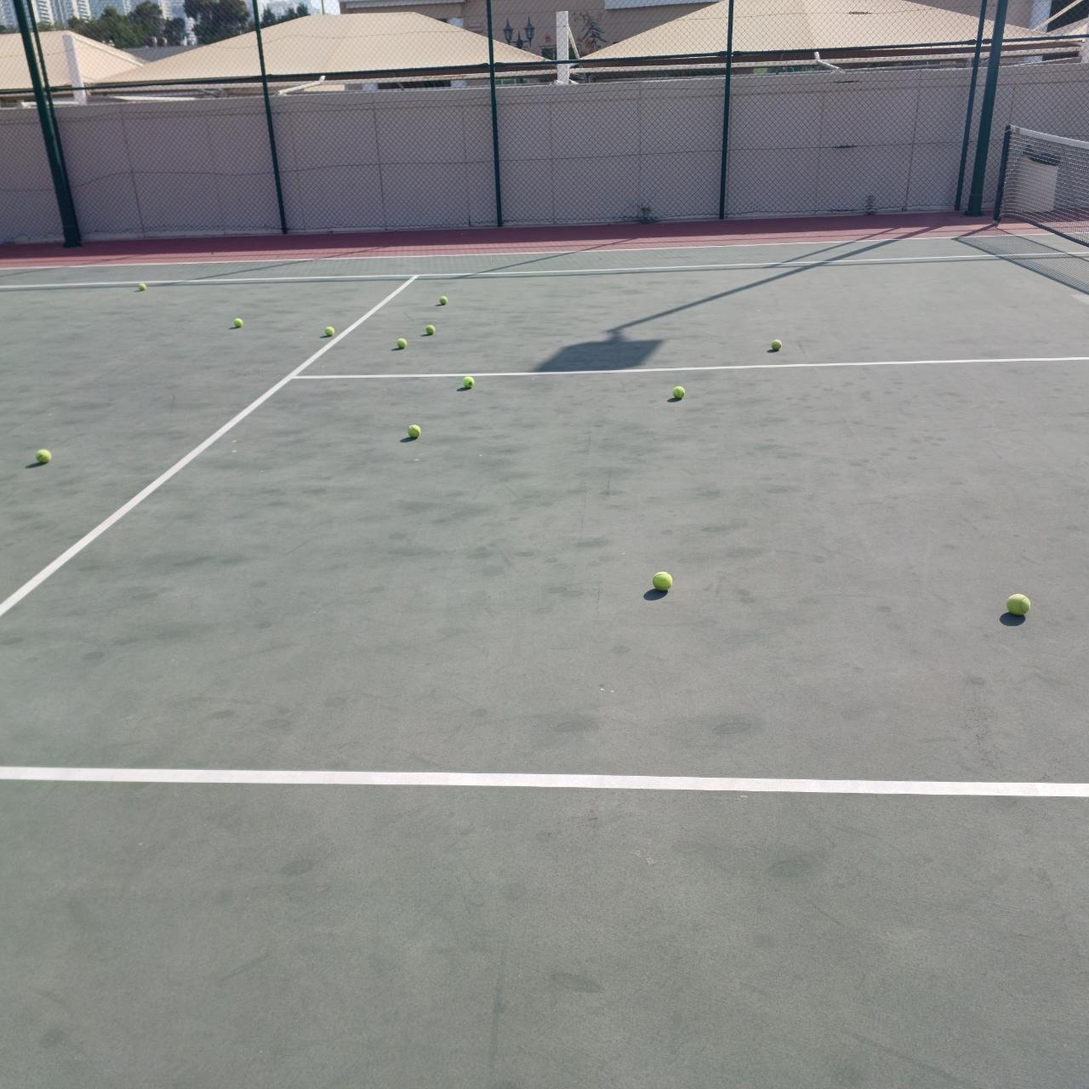tennis-ball: (1005, 590, 1030, 616), (650, 569, 672, 591), (34, 447, 51, 465), (458, 373, 474, 390), (406, 422, 421, 438), (670, 384, 685, 400), (421, 322, 435, 336), (768, 337, 781, 351), (322, 324, 335, 338), (394, 336, 407, 350), (231, 316, 243, 328), (436, 294, 448, 305)
